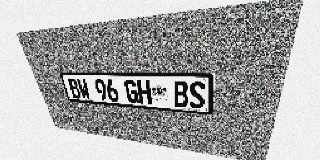6: (104, 79, 120, 102)
9: (93, 79, 109, 101)
B: (173, 81, 189, 108), (67, 78, 82, 99)
G: (124, 80, 139, 104)
H: (136, 80, 152, 105)
S: (189, 81, 205, 109)
W: (76, 78, 91, 100)
